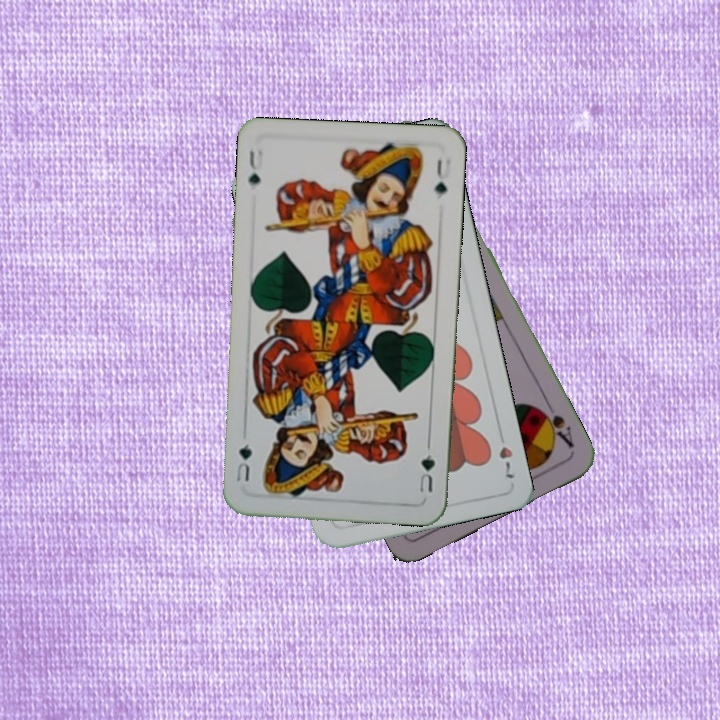GU: (415, 450, 438, 495), (244, 144, 266, 188)
H7: (494, 426, 518, 481)
SA: (534, 403, 576, 451)
